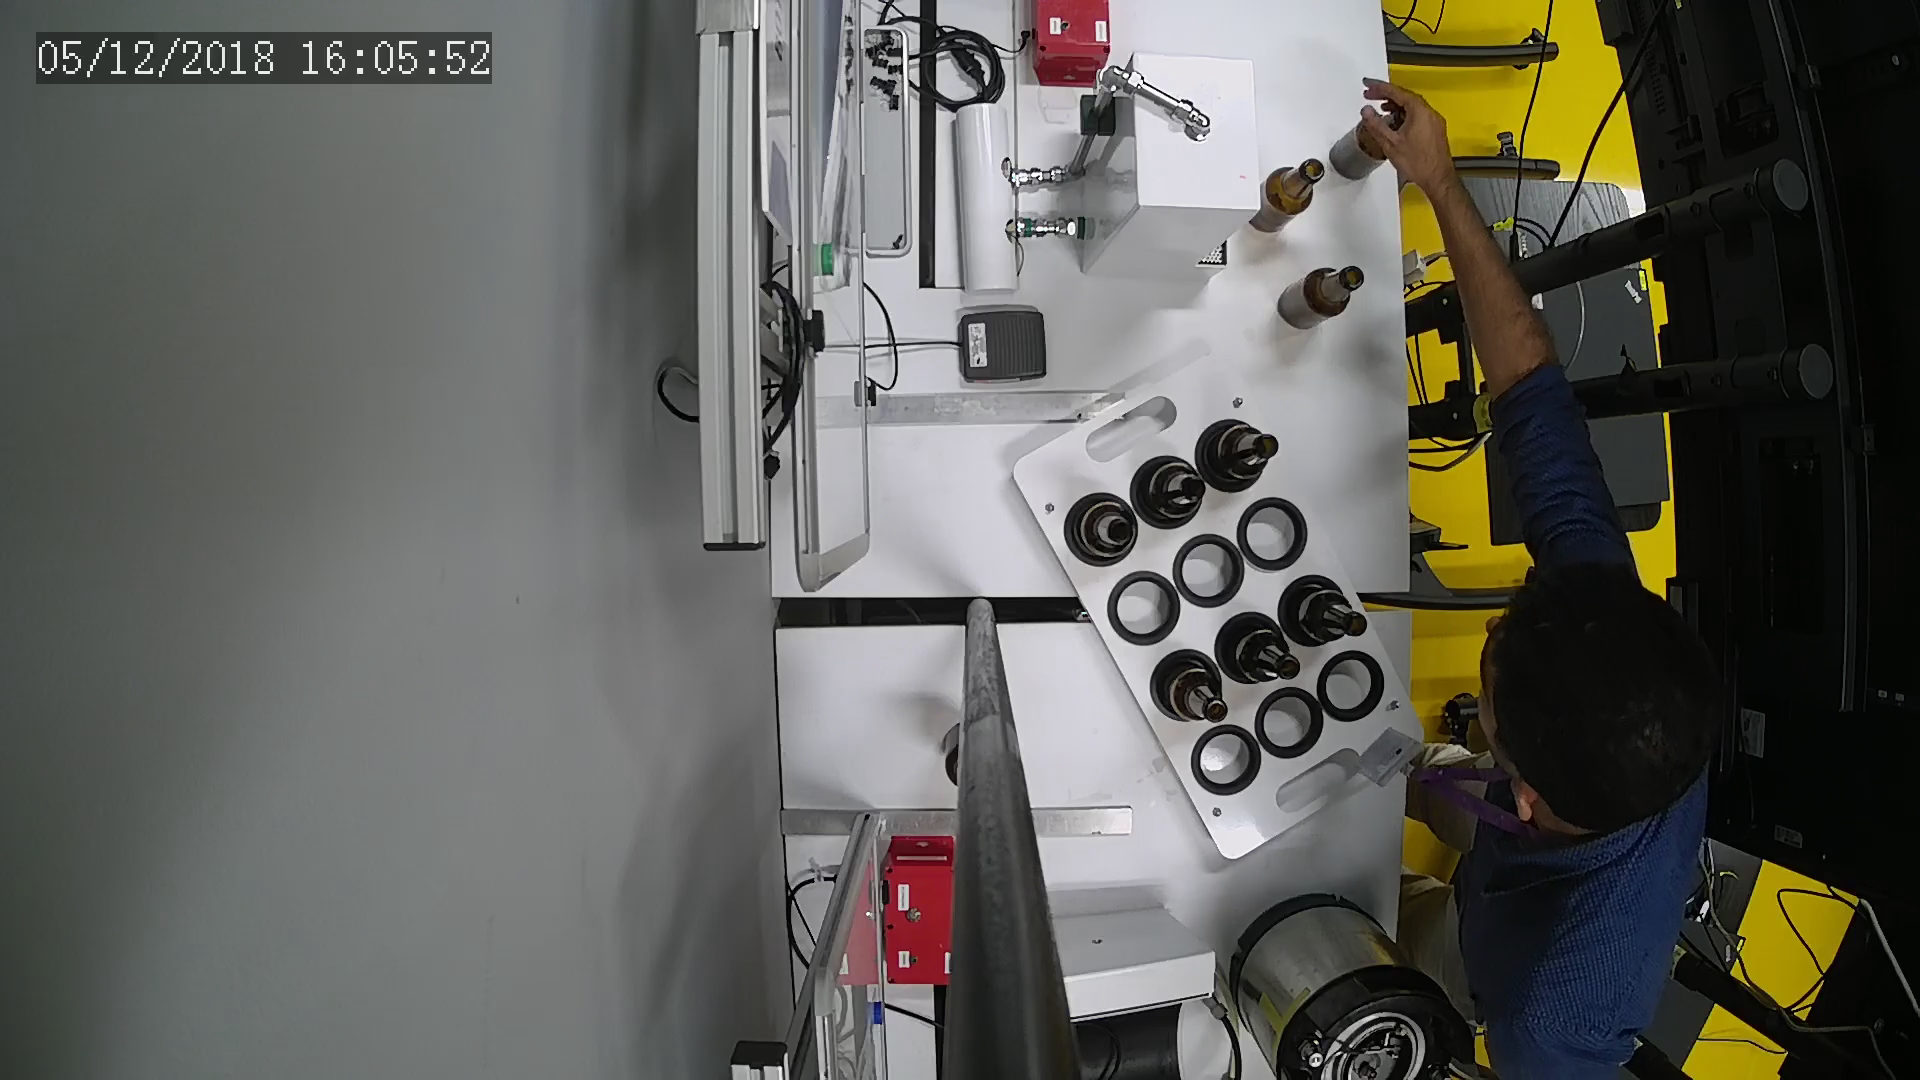filled_bottle: (1216, 618, 1305, 688), (1151, 651, 1229, 727), (1283, 578, 1367, 645), (1133, 458, 1208, 531), (1068, 495, 1141, 563), (1203, 418, 1276, 483)
trolley: (1011, 351, 1429, 862)
unfilled_bottle: (1274, 262, 1364, 330), (1253, 153, 1320, 240), (1329, 111, 1396, 182)
